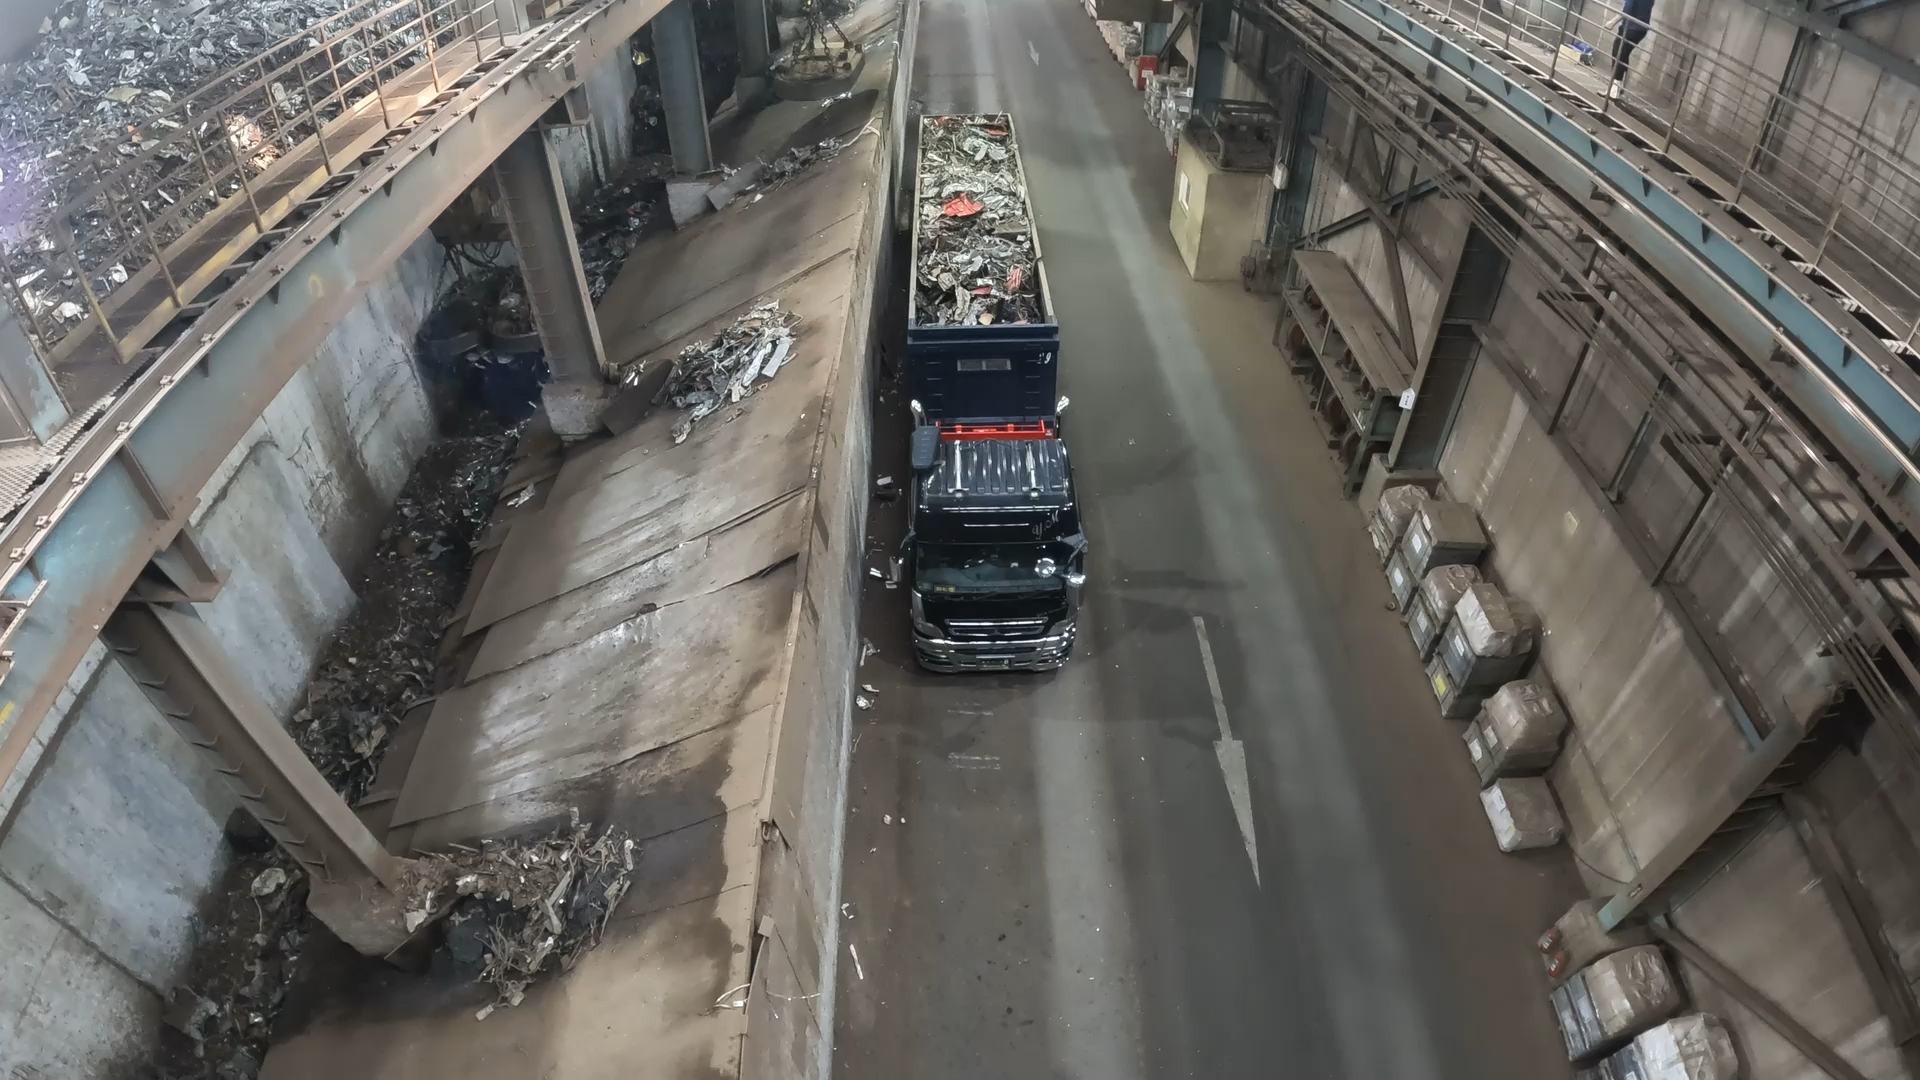truck: (910, 112, 1054, 330)
